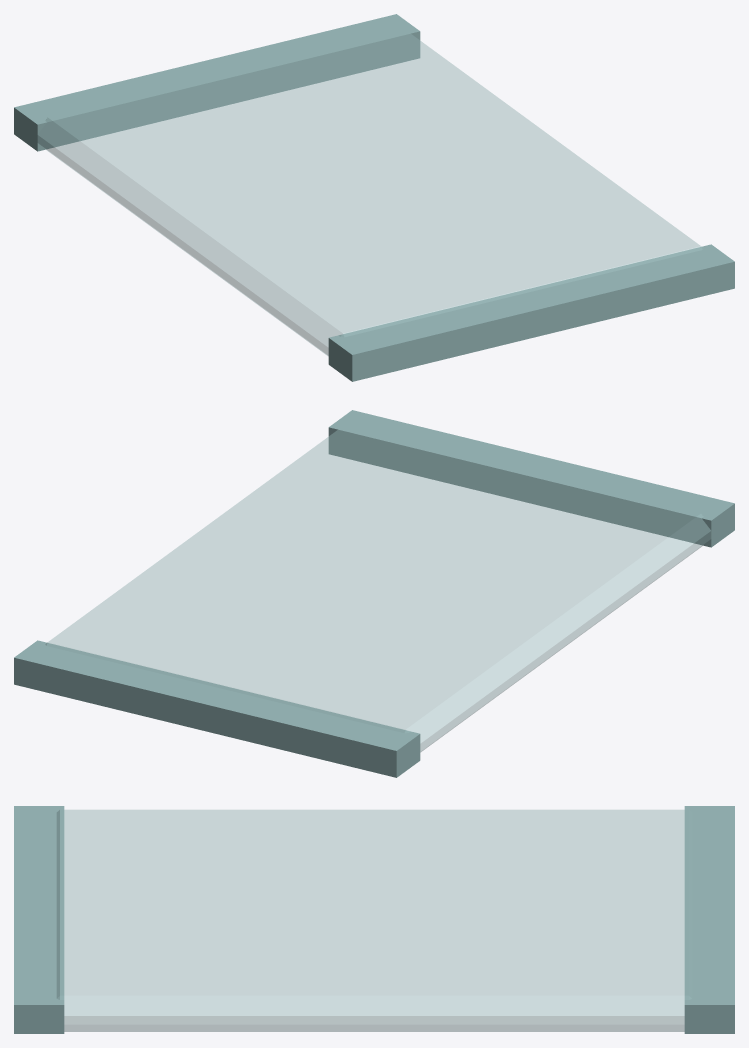
File: wrapping_vacuumed.glb
3 views of the same model, one above another, from view 1: azimuth 30°, elevation 25°; view 2: azimuth 150°, elevation 25°; view 3: azimuth 270°, elevation 25° (orthographic). The views are drawn at different scales.
Visible parts, largest first — view 1: block_sealed pouch, block_sealed ends (×2); view 2: block_sealed pouch, block_sealed ends (×2); view 3: block_sealed pouch, block_sealed ends (×2).
Part boxes in pixels (left/top/right/bottom): block_sealed pouch: left=37, top=30, right=703, bottom=356; block_sealed ends (×2): left=14, top=14, right=734, bottom=381; block_sealed pouch: left=45, top=426, right=711, bottom=752; block_sealed ends (×2): left=14, top=410, right=734, bottom=777; block_sealed pouch: left=56, top=809, right=692, bottom=1031; block_sealed ends (×2): left=14, top=806, right=734, bottom=1033.
Bounding box in the file's own units: 0.0554 × 0.00468 × 0.0848.
2 materials, 2 textured.
